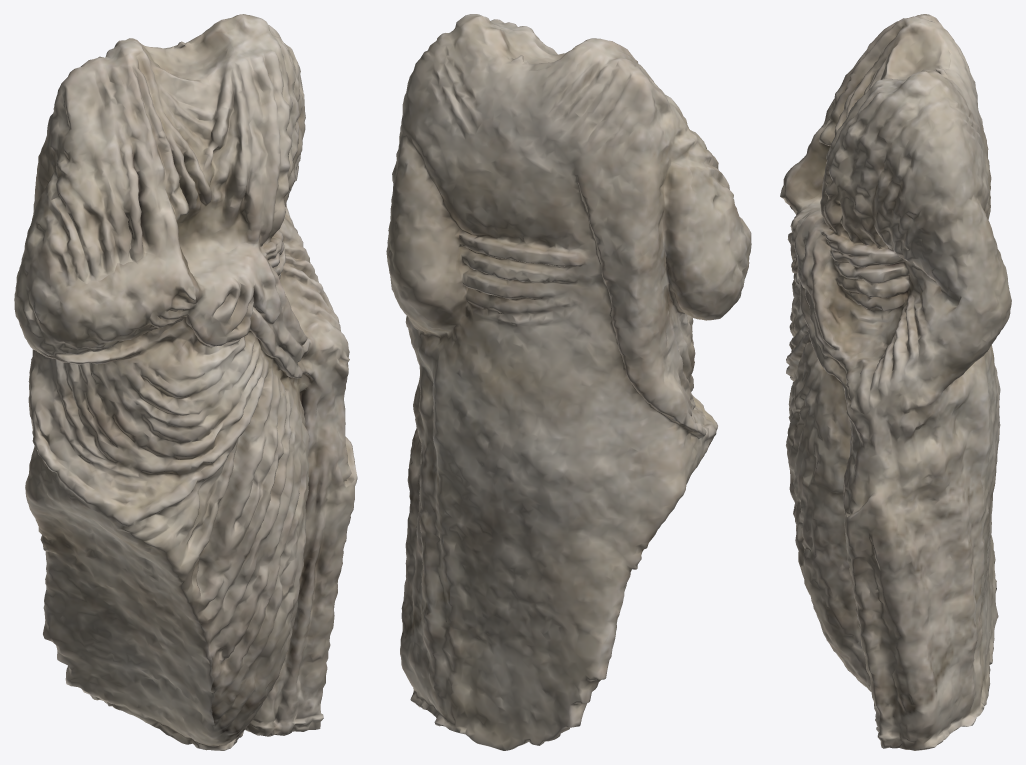
Rendered from 05_ESC_togado_estepa.glb.
3 renders of one model, left to right at view 1: azimuth 30°, elevation 25°; view 2: azimuth 150°, elevation 25°; view 3: azimuth 270°, elevation 25°, orthographic. The views are drawn at different scales.
Parts seen in each view (by area): view 1: TOGADO_ESTEPA_LP; view 2: TOGADO_ESTEPA_LP; view 3: TOGADO_ESTEPA_LP.
Boxes of the visible parts, left/top/right/bottom form: TOGADO_ESTEPA_LP: left=14, top=14, right=357, bottom=750; TOGADO_ESTEPA_LP: left=386, top=14, right=751, bottom=750; TOGADO_ESTEPA_LP: left=780, top=14, right=1011, bottom=750.
Bounding box in the file's own units: 0.5203 × 1.08 × 0.347.
1 material, 1 textured.
